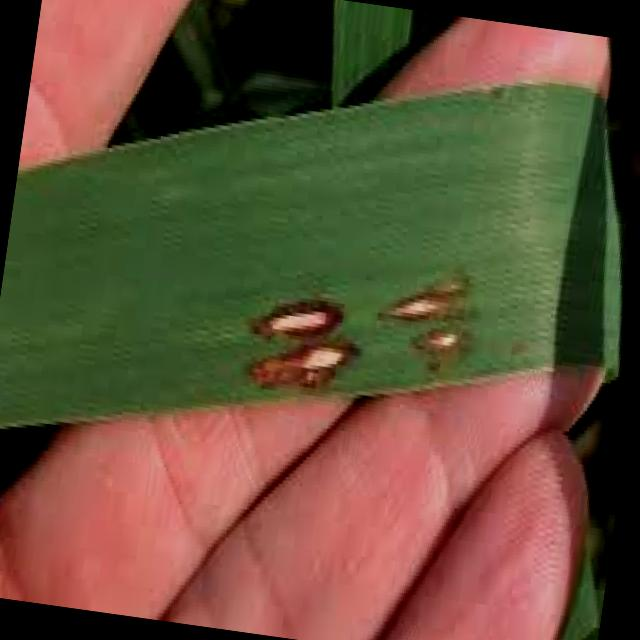leaf_blight: (0, 86, 619, 425)
